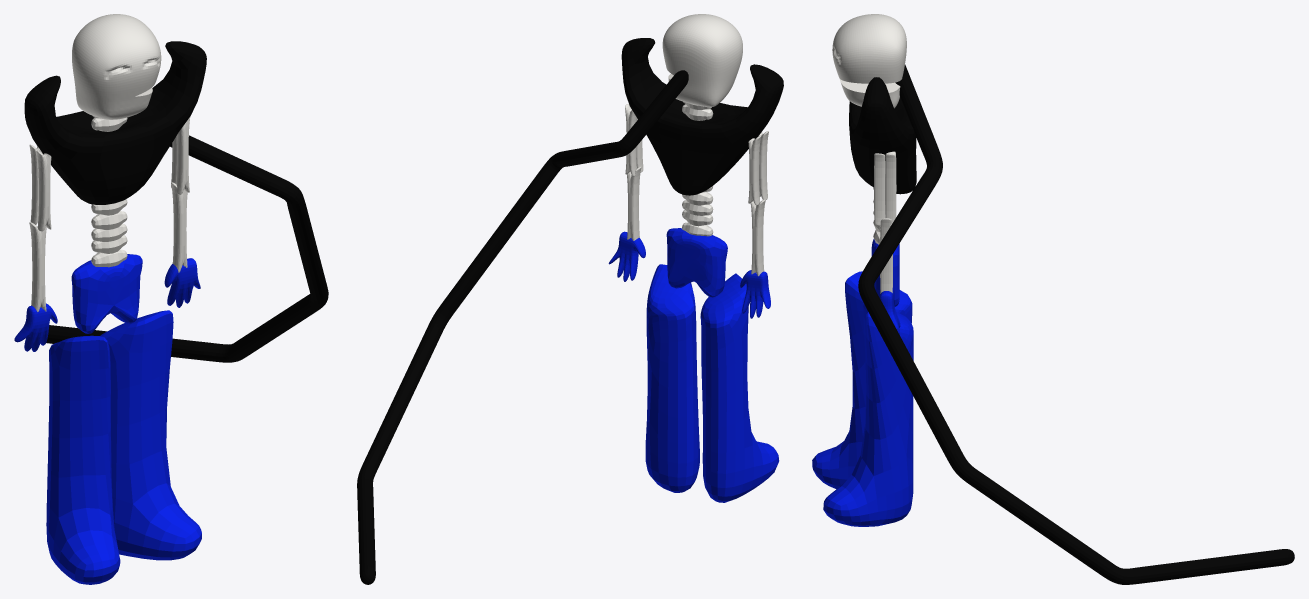
3 views of the same model, side by side, from view 1: azimuth 30°, elevation 25°; view 2: azimuth 150°, elevation 25°; view 3: azimuth 270°, elevation 25° (orthographic). The views are drawn at different scales.
Visible parts, largest first — view 1: Куб.010, Куб.009, Cube, Куб.019, Куб.002, Куб.008, Куб.016, Куб.017, Куб.018, Куб.011, Куб.014, Куб.013 (+5 smaller); view 2: Куб.010, Cube, Куб.009, Куб.019, Куб.002, Куб.008, Куб.017, Куб.018, Куб.016, Куб.011, Куб.015, Куб.014; view 3: Куб.019, Куб.009, Куб.002, Cube, Куб.010, Куб.012, Куб.013.
Part boxes in pixels (bbox=[...]): Куб.010: bbox=[46, 335, 120, 584]; Куб.009: bbox=[100, 310, 201, 560]; Cube: bbox=[24, 41, 206, 204]; Куб.019: bbox=[46, 135, 328, 362]; Куб.002: bbox=[72, 14, 161, 119]; Куб.008: bbox=[71, 254, 142, 333]; Куб.016: bbox=[29, 222, 46, 311]; Куб.017: bbox=[14, 303, 57, 351]; Куб.018: bbox=[164, 258, 200, 307]; Куб.011: bbox=[171, 182, 187, 272]; Куб.014: bbox=[36, 151, 51, 231]; Куб.013: bbox=[176, 117, 190, 194]; Куб.010: bbox=[700, 273, 779, 502]; Cube: bbox=[621, 38, 783, 195]; Куб.009: bbox=[645, 264, 699, 492]; Куб.019: bbox=[357, 70, 688, 584]; Куб.002: bbox=[662, 14, 742, 107]; Куб.008: bbox=[666, 228, 727, 297]; Куб.017: bbox=[740, 270, 770, 318]; Куб.018: bbox=[608, 231, 645, 281]; Куб.016: bbox=[750, 199, 765, 276]; Куб.011: bbox=[627, 166, 641, 240]; Куб.015: bbox=[748, 135, 761, 205]; Куб.014: bbox=[759, 131, 768, 199]; Куб.019: bbox=[858, 64, 1294, 584]; Куб.009: bbox=[823, 304, 913, 526]; Куб.002: bbox=[832, 14, 906, 108]; Cube: bbox=[849, 77, 916, 194]; Куб.010: bbox=[812, 271, 912, 489]; Куб.012: bbox=[885, 151, 896, 225]; Куб.013: bbox=[874, 153, 885, 225].
Bounding box in the file's own units: 1026 × 1518 × 1352.
